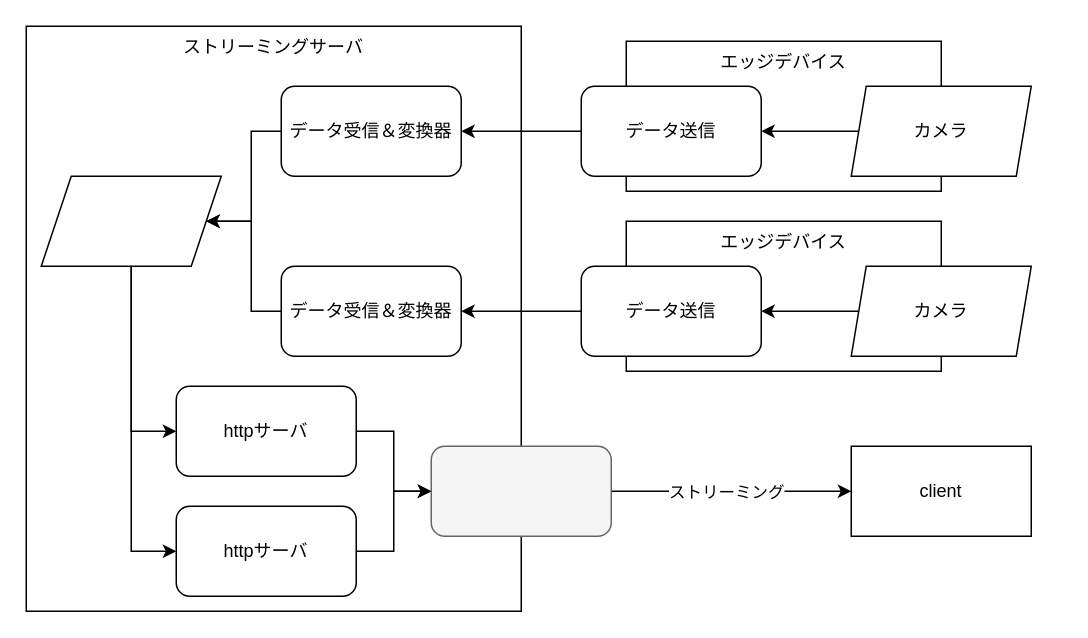
Image size: 1088x638. Some labels were removed from this diagram. Here are the shapes that lost their labels. From the top down, the centre of each, then its label:
At (x=130, y=220): "共有ボリューム".
At (x=520, y=490): "ロードバランサ".
